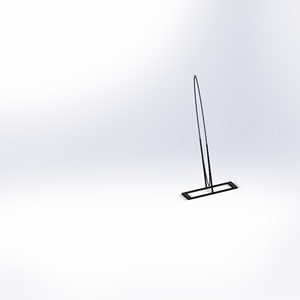circle: (181, 72, 239, 200)
